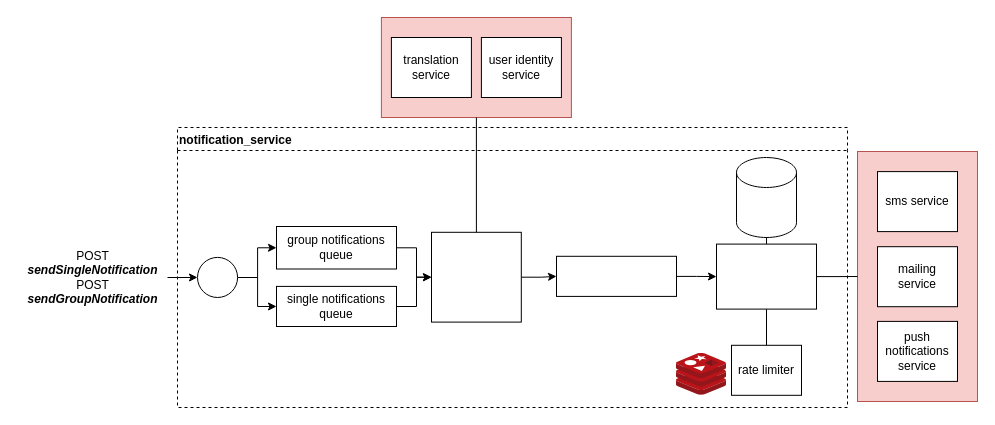
The diagram is 995 pixels wide and 425 high, and some of its shapes have lost their labels. The shapes that lost their labels are listed below. From the top down, each one's centre as x and y in pixels, then its label:
point (766, 197): notifications db
point (217, 277): api
point (475, 276): assembler
point (616, 275): processed notifications queue
point (766, 276): dispatcher
